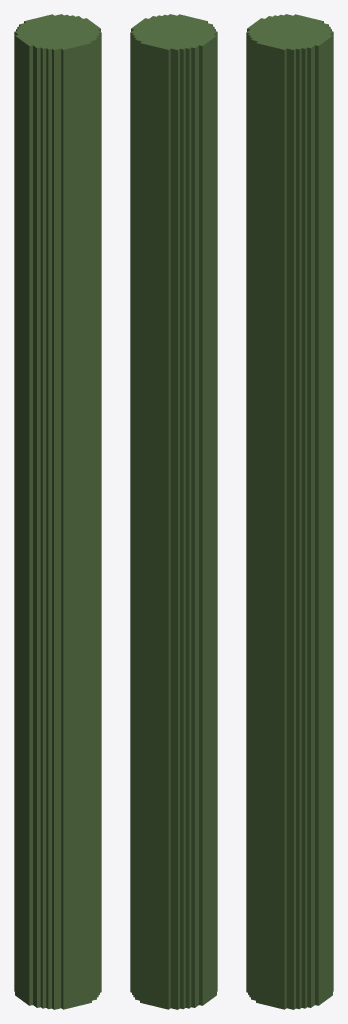
File: forest1.1-109.obj
The picture shows the model from 3 angles, left to right: view 1: azimuth 30°, elevation 25°; view 2: azimuth 150°, elevation 25°; view 3: azimuth 330°, elevation 25°; orthographic projection.
Bounding box in the file's own units: 2 × 25.6 × 1.9.
1 material, 1 textured.
